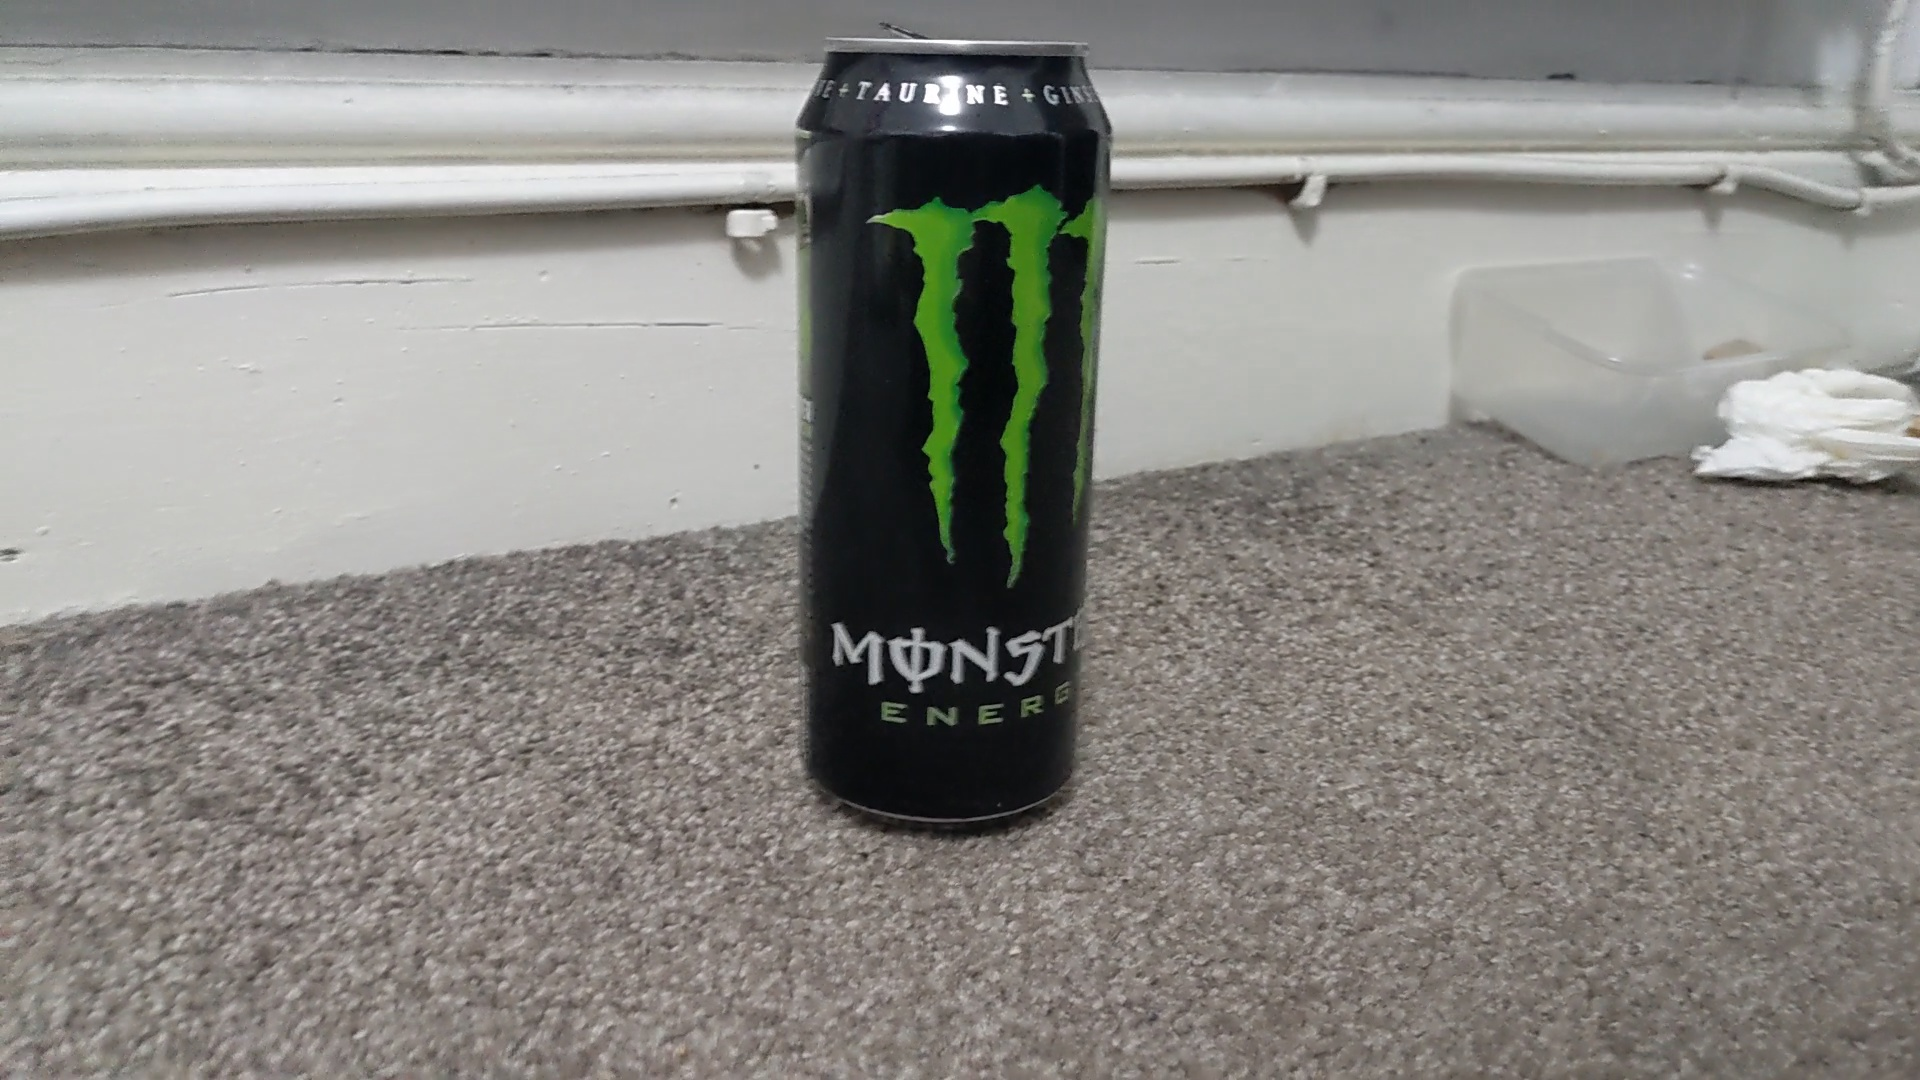monster-original: (781, 21, 1117, 843)
